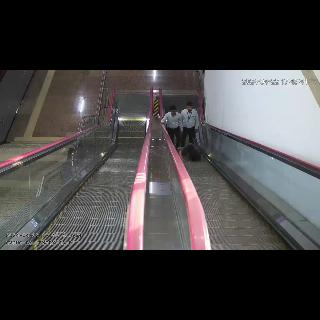anomaly: (179, 140, 203, 162)
normal: (160, 105, 182, 144), (180, 101, 200, 143)
